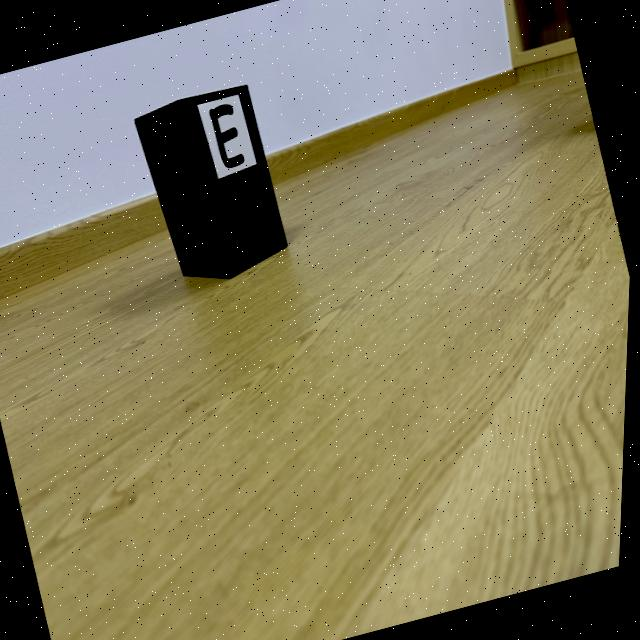E: (209, 103, 245, 168)
